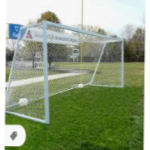goals: (6, 19, 125, 125)
